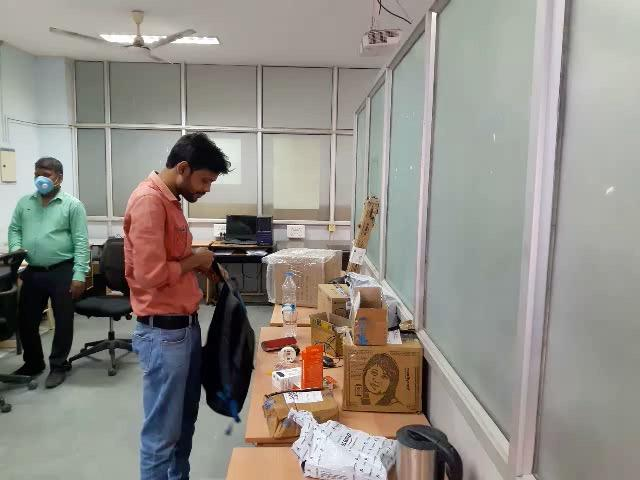Normal: (119, 126, 260, 480)
